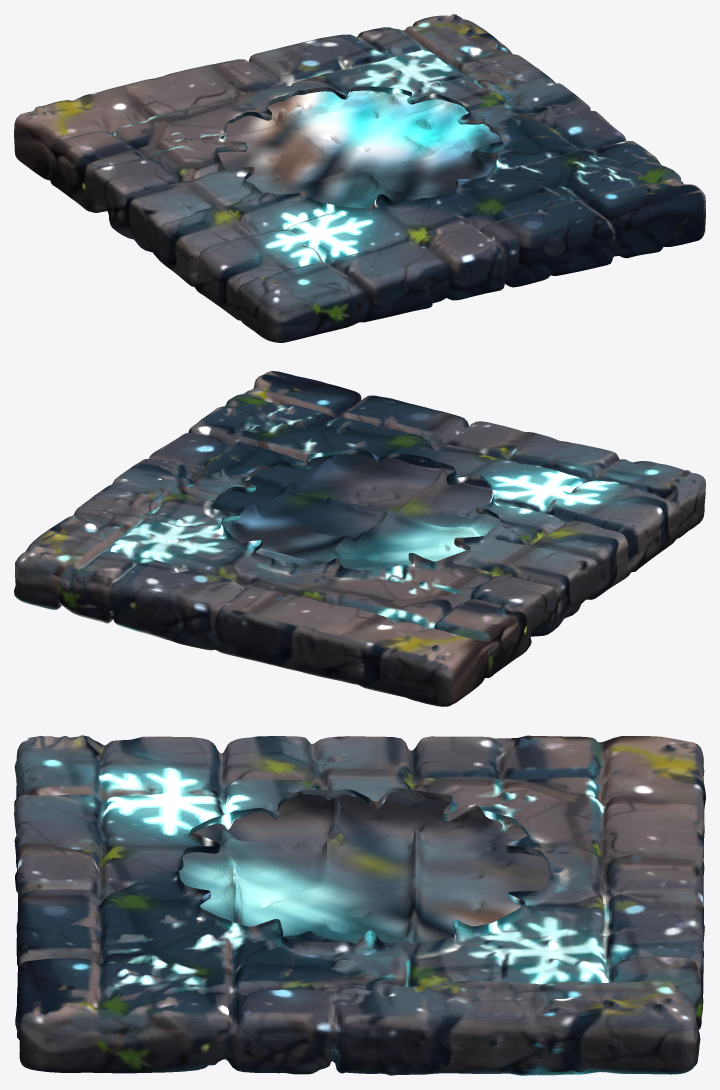
Rendered from idol_ice_plate.glb.
3 views of the same model, one above another, from view 1: azimuth 30°, elevation 25°; view 2: azimuth 150°, elevation 25°; view 3: azimuth 270°, elevation 25° (orthographic). The views are drawn at different scales.
Parts seen in each view (by area): view 1: idol_ice_plate; view 2: idol_ice_plate; view 3: idol_ice_plate.
Part boxes in pixels (<box>): idol_ice_plate: <box>14,14,705,342</box>; idol_ice_plate: <box>14,371,705,706</box>; idol_ice_plate: <box>14,735,705,1075</box>.
Size of the model in its own units: 1.98 by 0.2365 by 2.
1 material, 1 textured.
